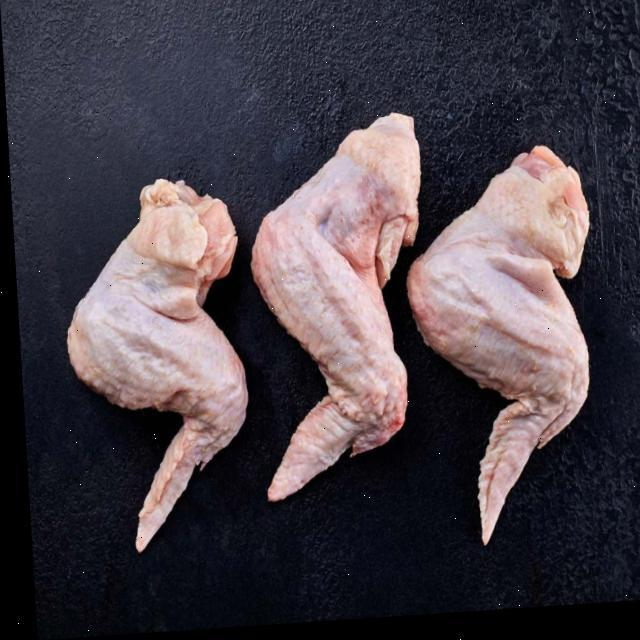wing: (398, 150, 603, 560), (238, 110, 438, 527), (51, 174, 250, 558)
